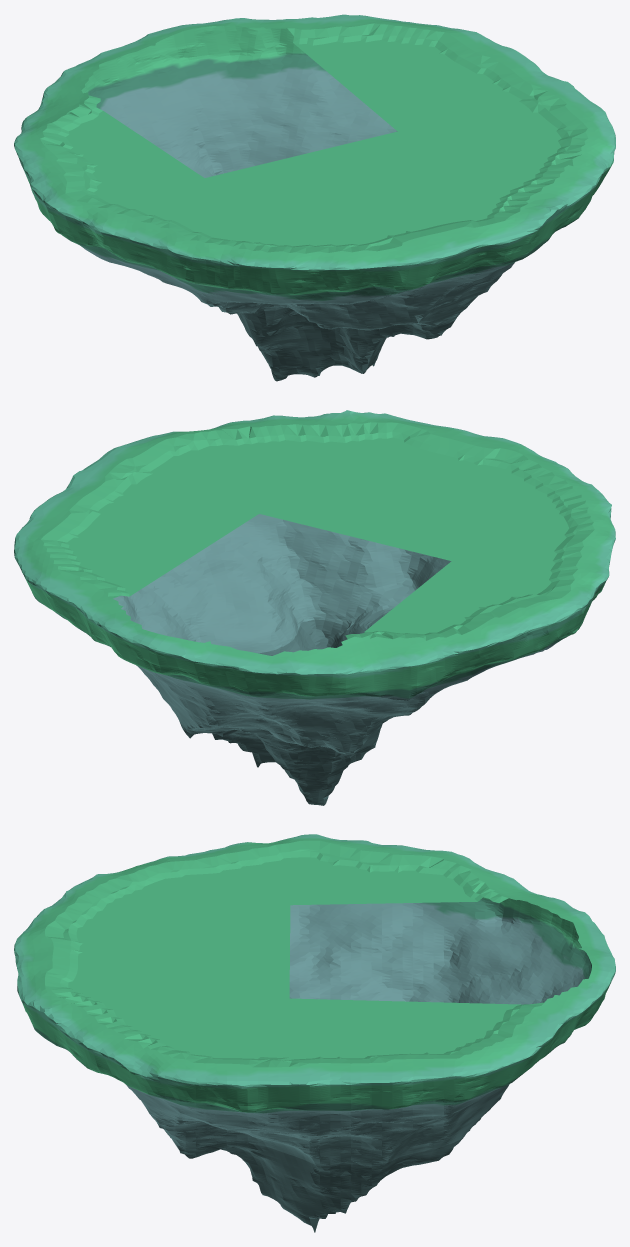
Rendered from TutorialIsland_B.fbx.
3 views of the same model, one above another, from view 1: azimuth 30°, elevation 25°; view 2: azimuth 150°, elevation 25°; view 3: azimuth 270°, elevation 25° (orthographic).
Parts seen in each view (by area): view 1: IslandFlat_A; view 2: IslandFlat_A; view 3: IslandFlat_A.
Boxes of the visible parts, left/top/right/bottom form: IslandFlat_A: left=14, top=14, right=615, bottom=381; IslandFlat_A: left=14, top=410, right=615, bottom=805; IslandFlat_A: left=14, top=834, right=615, bottom=1232.
Bounding box in the file's own units: 7960 × 3725 × 8103.
